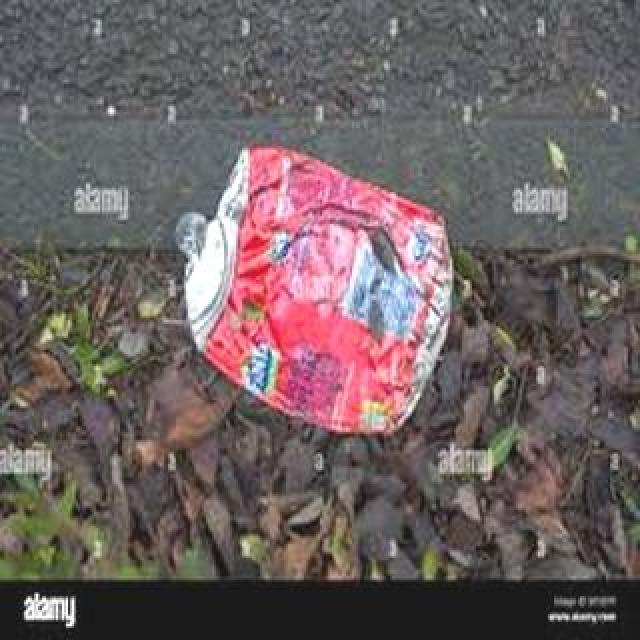Can: (167, 121, 469, 447)
